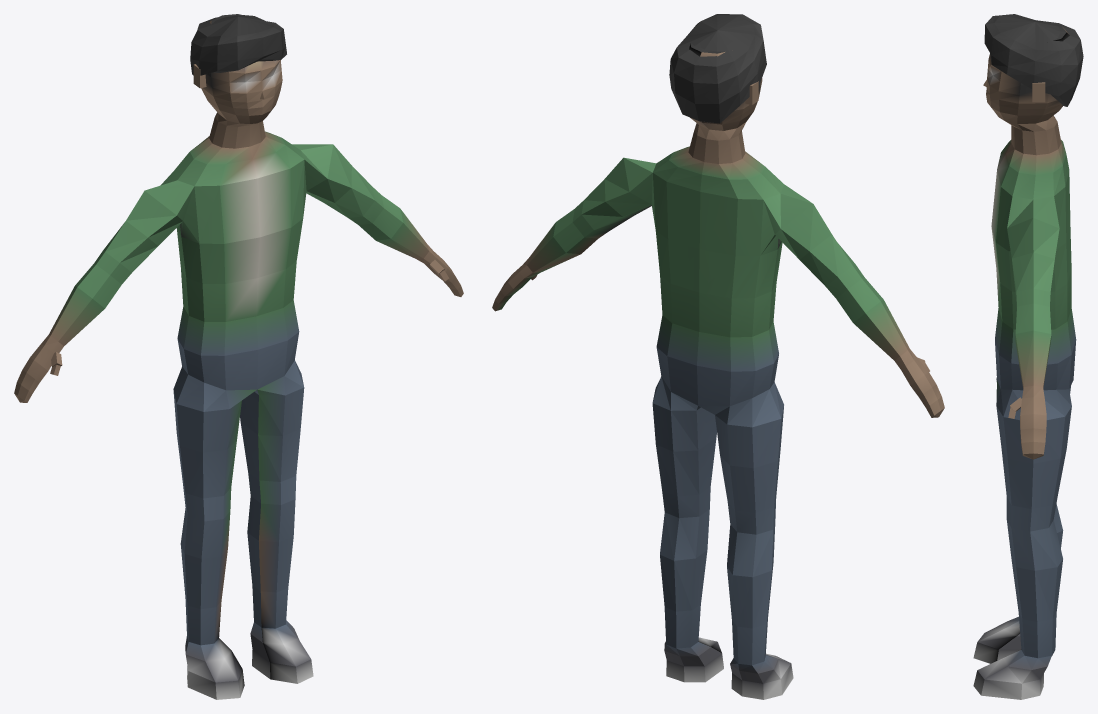
Rendered from char__pessoa__multidao_20.glb.
3 renders of one model, left to right at view 1: azimuth 30°, elevation 25°; view 2: azimuth 150°, elevation 25°; view 3: azimuth 270°, elevation 25°, orthographic.
Parts seen in each view (by area): view 1: char__pessoa__multidao_20; view 2: char__pessoa__multidao_20; view 3: char__pessoa__multidao_20.
Boxes of the visible parts, x1,y1,x2,y2 form: char__pessoa__multidao_20: (14, 14, 463, 699); char__pessoa__multidao_20: (492, 14, 944, 699); char__pessoa__multidao_20: (973, 14, 1083, 699).
Bounding box in the file's own units: 1.19 × 1.68 × 0.2565.
